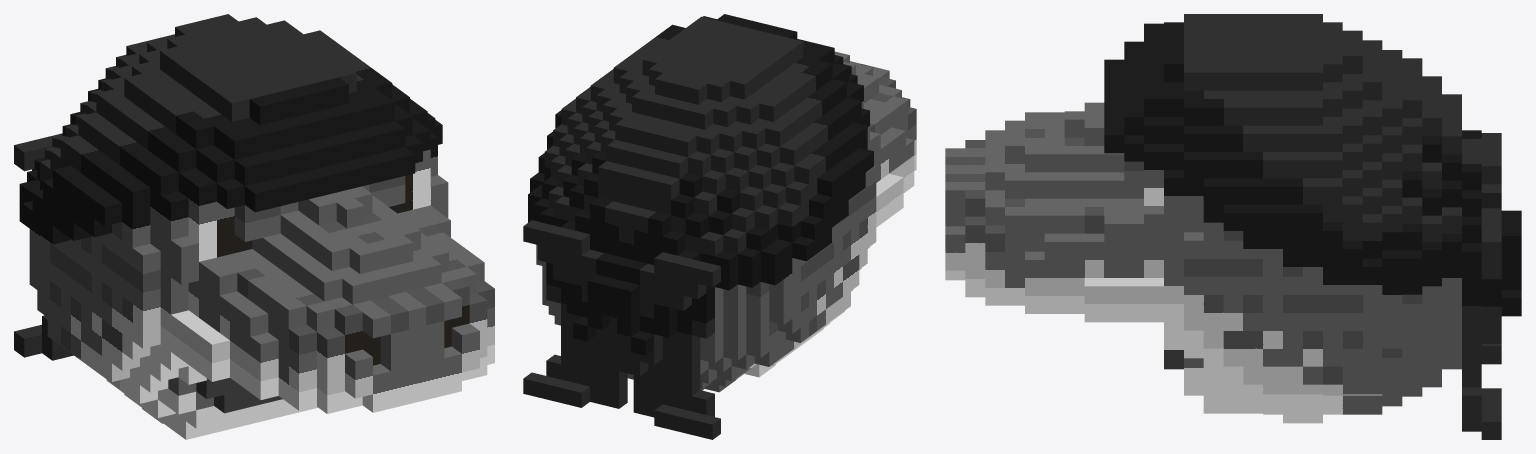
File: black durag.gltf
3 renders of one model, left to right at view 1: azimuth 30°, elevation 25°; view 2: azimuth 150°, elevation 25°; view 3: azimuth 270°, elevation 25°, orthographic. The views are drawn at different scales.
Visible parts, largest first — view 1: 01_Zilla_HeadblackDurag-Mesh; view 2: 01_Zilla_HeadblackDurag-Mesh; view 3: 01_Zilla_HeadblackDurag-Mesh.
Boxes of the visible parts, x1=… form: 01_Zilla_HeadblackDurag-Mesh: x1=14, y1=14, x2=494, y2=439; 01_Zilla_HeadblackDurag-Mesh: x1=523, y1=14, x2=916, y2=439; 01_Zilla_HeadblackDurag-Mesh: x1=945, y1=14, x2=1521, y2=439.
Bounding box in the file's own units: 19 × 19 × 29.
Materials: 1 (1 with a texture image).
